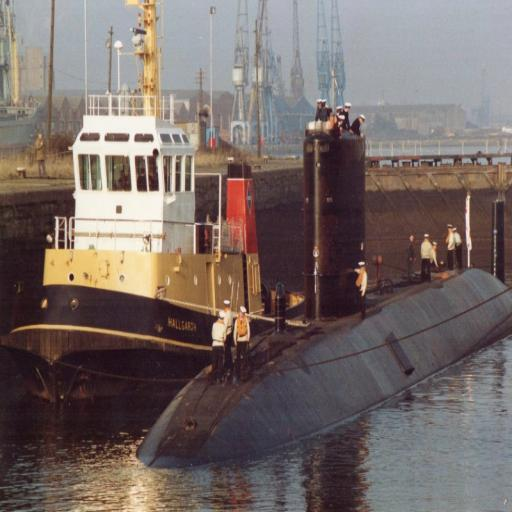submarine: (135, 134, 512, 471)
